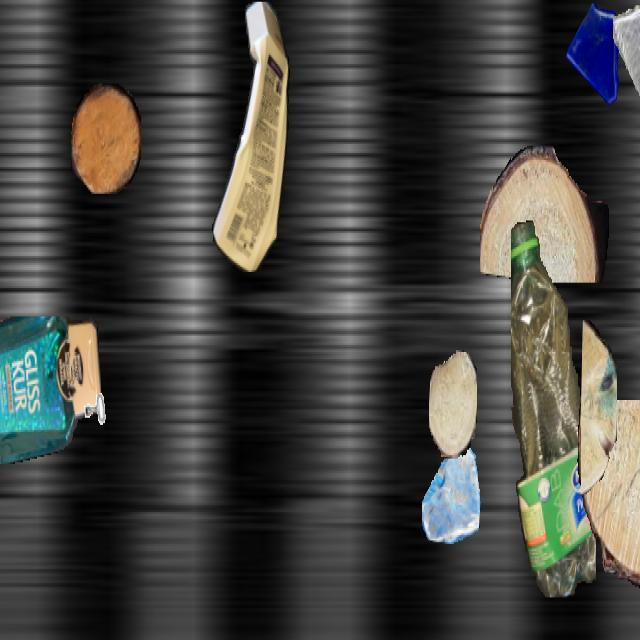glass: (565, 1, 629, 116), (422, 439, 480, 542), (613, 2, 640, 130)
metal: (75, 351, 119, 428)
plastic: (511, 218, 595, 596), (206, 2, 294, 272), (0, 316, 101, 462)
wood: (480, 146, 608, 281), (577, 400, 640, 588), (71, 84, 141, 194), (581, 320, 617, 494), (429, 350, 477, 457)
